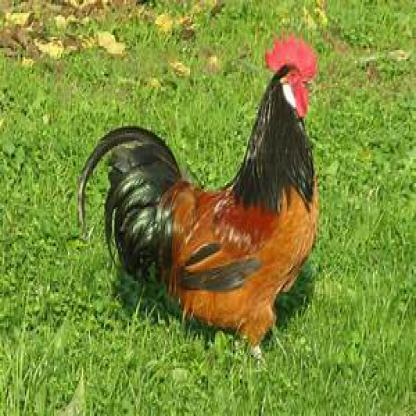chicken: (79, 31, 320, 359)
